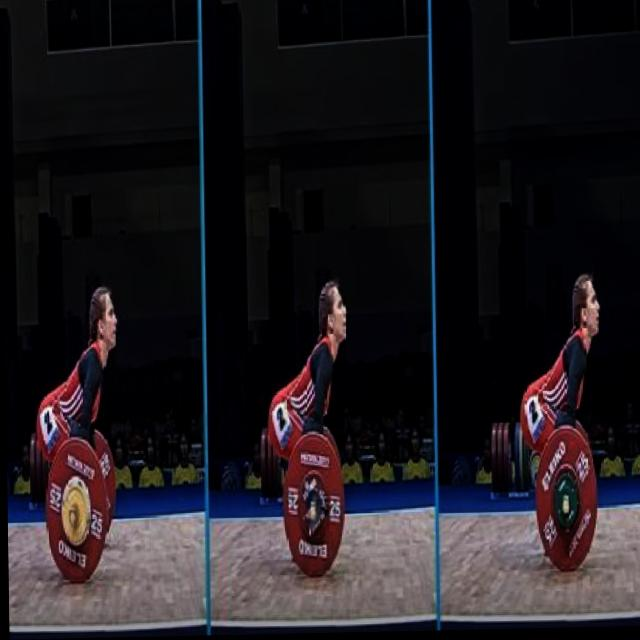barbell: (530, 422, 603, 581), (43, 433, 109, 589), (283, 432, 350, 585)
